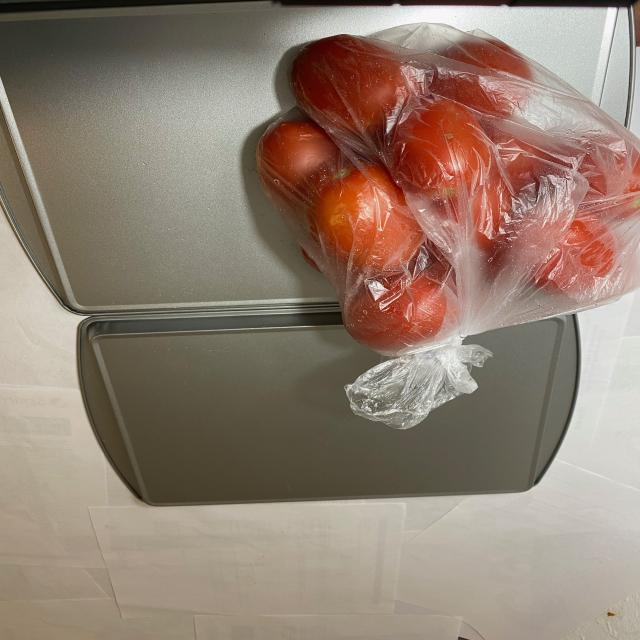tomato: (255, 18, 640, 355)
